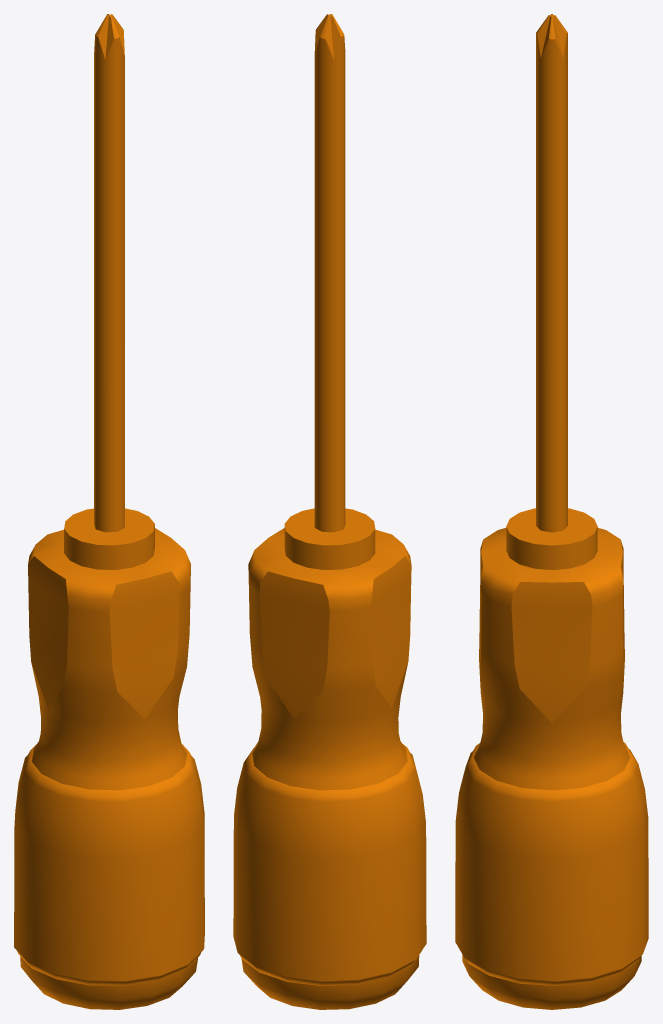
The model's file is Test Screwdriver LP 1 .fbx.
The picture shows the model from 3 angles, left to right: view 1: azimuth 30°, elevation 25°; view 2: azimuth 150°, elevation 25°; view 3: azimuth 270°, elevation 25°; orthographic projection.
Parts seen in each view (by area): view 1: Handle1_low, Handle2_low, Top_low; view 2: Handle1_low, Handle2_low, Top_low; view 3: Handle1_low, Handle2_low, Top_low.
Part boxes in pixels (bbox=[...]): Handle1_low: bbox=[20, 508, 198, 1009]; Handle2_low: bbox=[14, 744, 204, 985]; Top_low: bbox=[94, 14, 124, 532]; Handle1_low: bbox=[241, 508, 419, 1009]; Handle2_low: bbox=[233, 742, 426, 986]; Top_low: bbox=[314, 14, 345, 532]; Handle1_low: bbox=[462, 508, 641, 1009]; Handle2_low: bbox=[455, 742, 648, 985]; Top_low: bbox=[536, 14, 567, 532].
Size of the model in its own units: 46.89 by 261 by 46.89.
